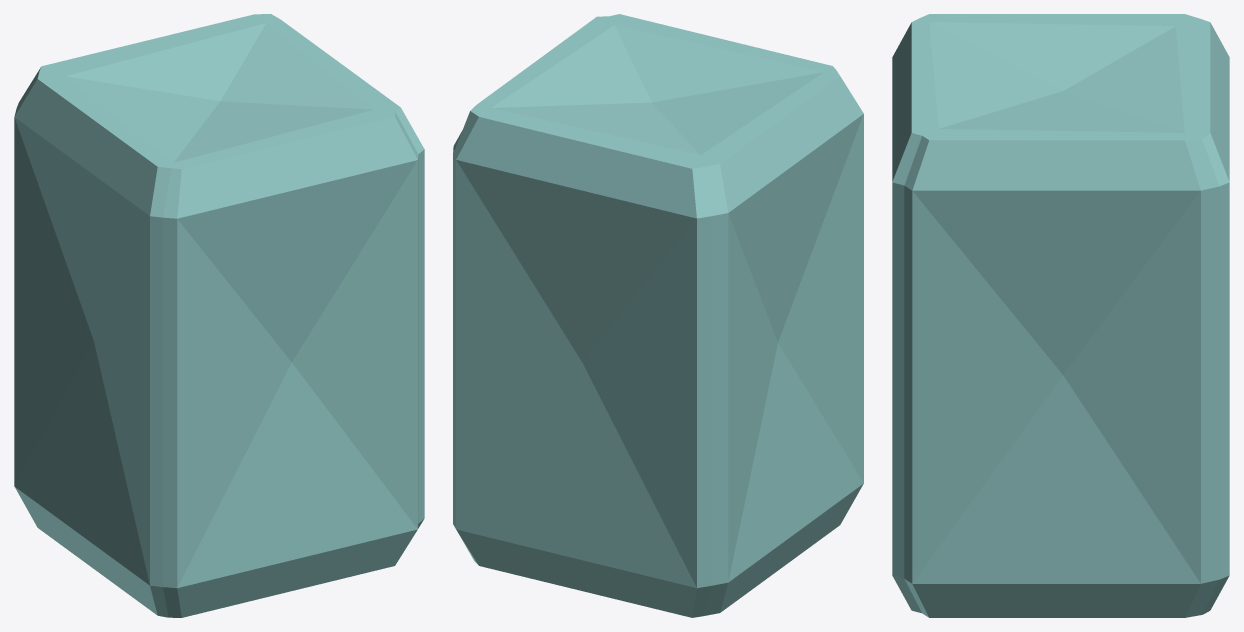
File: IceBlockPhong.fbx
The picture shows the model from 3 angles, left to right: view 1: azimuth 30°, elevation 25°; view 2: azimuth 150°, elevation 25°; view 3: azimuth 270°, elevation 25°; orthographic projection. The views are drawn at different scales.
Parts seen in each view (by area): view 1: pCube1; view 2: pCube1; view 3: pCube1.
Boxes of the visible parts, x1,y1,x2,y2 form: pCube1: (14, 14, 424, 617); pCube1: (453, 14, 863, 617); pCube1: (892, 14, 1229, 617).
Size of the model in its own units: 1.13 by 1.76 by 1.13.
